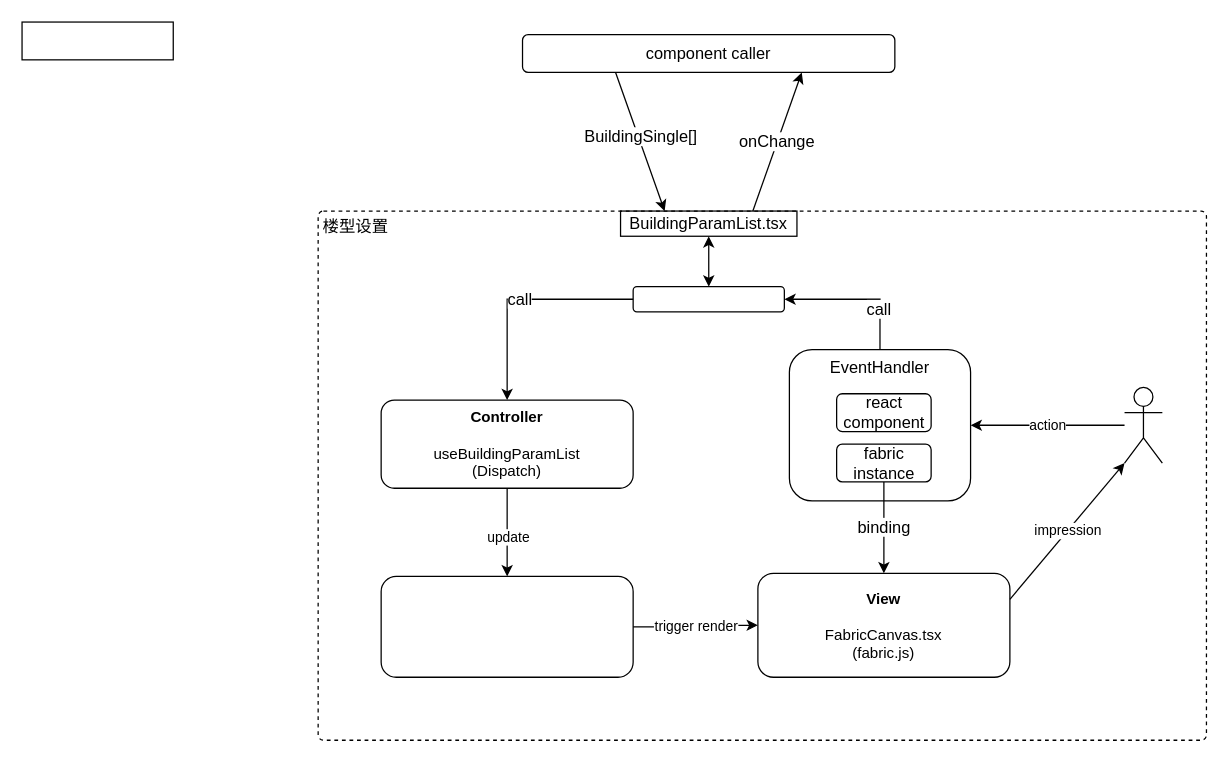
Image size: 1229x762. Some labels were removed from this diagram. Each missing label, with the centre of its shape:
"Business Logic" goes at pixel 708 298.
"Model useBuildingParamList (useReducer)" goes at pixel 506 626.
"User" goes at pixel 1142 424.
"Version.20220416" goes at pixel 97 40.
